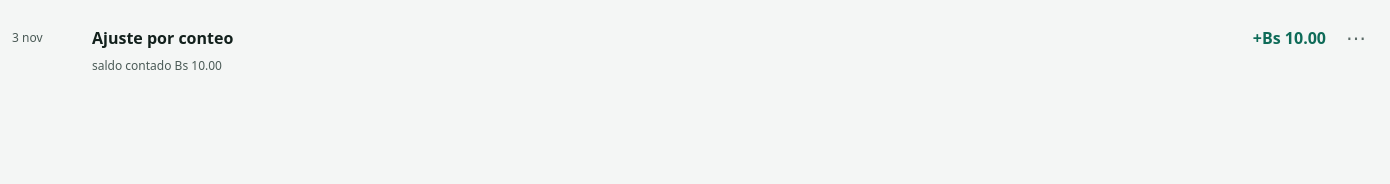
«Cambiar fecha y hora» solo en movimientos activos que no son ajustes › no aparece en un ajuste por conteo
What coordinates should you click on to do the following:
click the button named "Acciones de "
I would click on:
 (1356, 38)
Its box is [1334,16,1378,60].
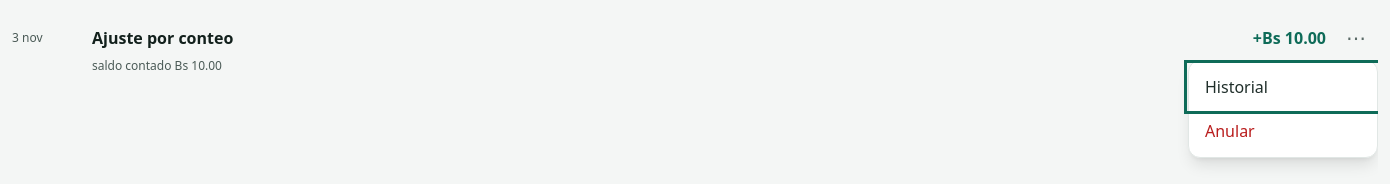
expect the menu item "Anular" is shown: met, box [1189,109,1377,153]
